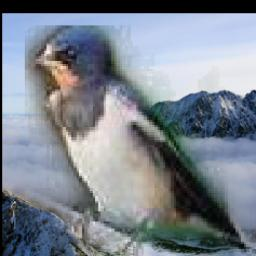Swallow: (26, 25, 256, 256)
